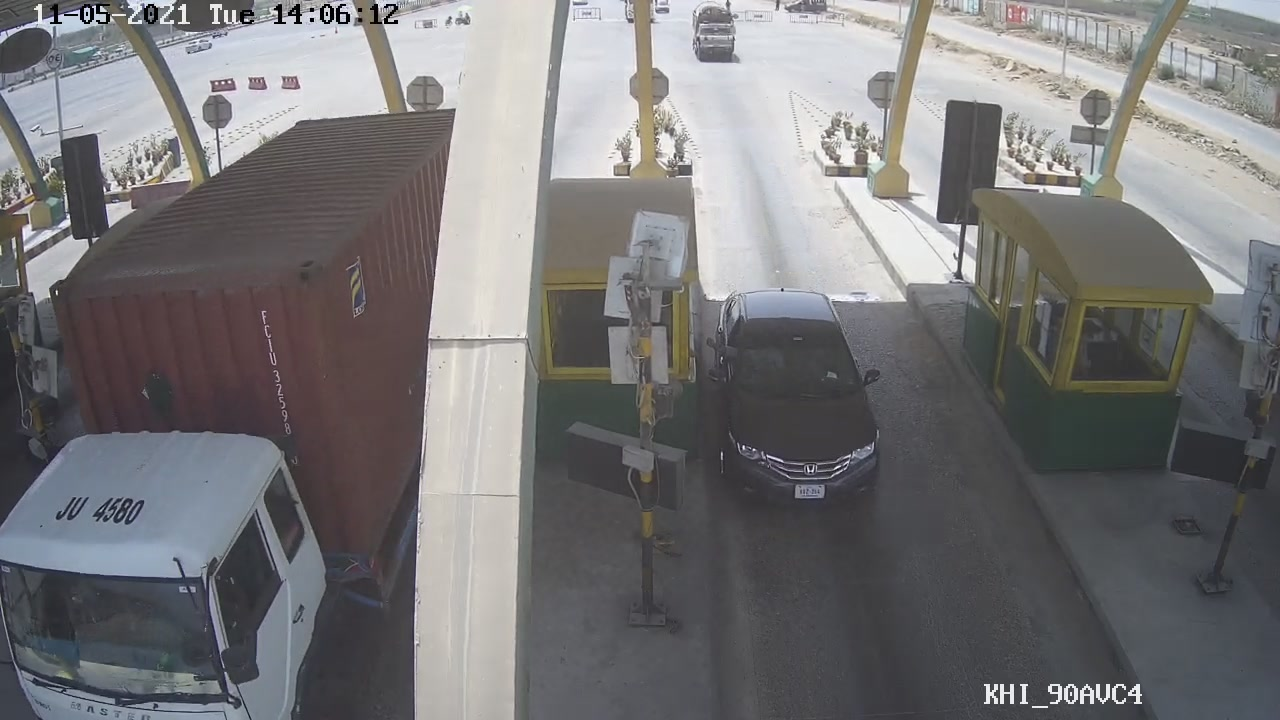F1: (704, 278, 900, 522)
